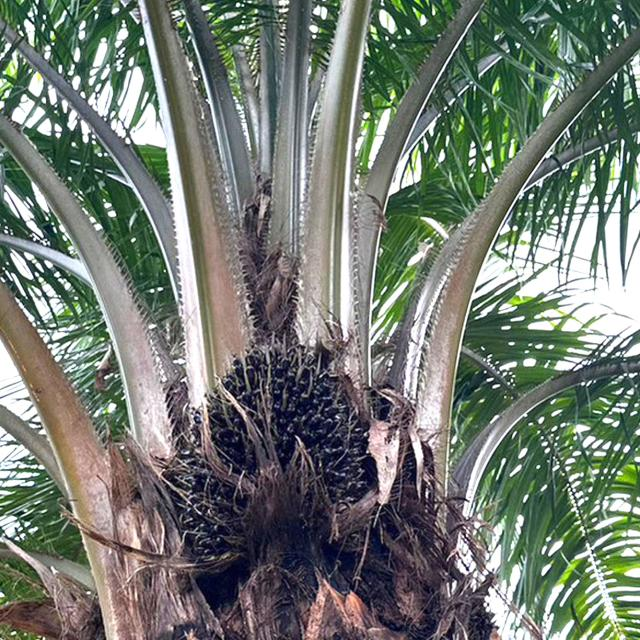unripe: (152, 330, 387, 544)
